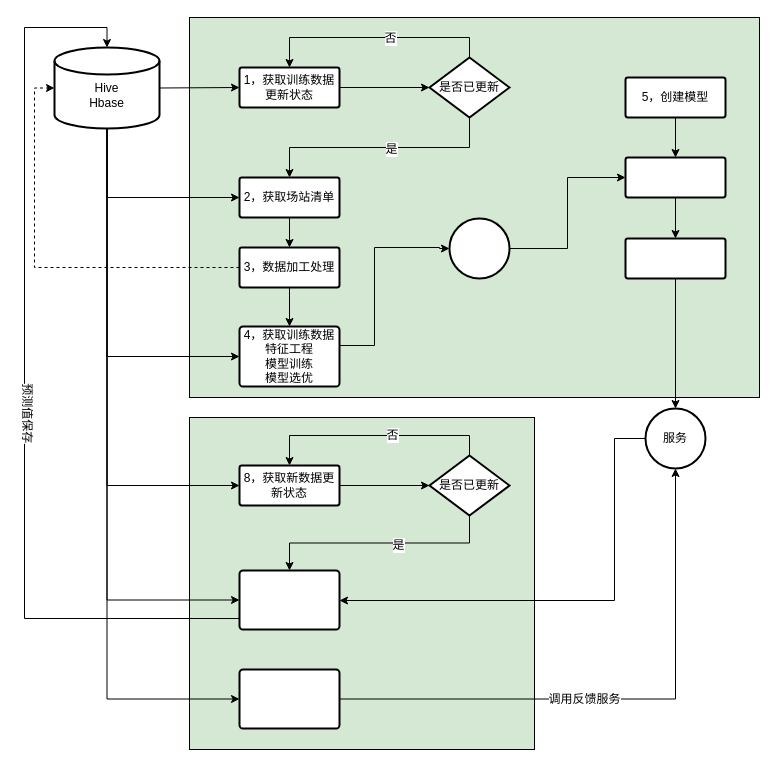
Some shapes in this 777 by 767 pixel diagram are drawn without their labels. Here are the shapes that lost their labels. From the top down, the centre of each, then its label:
At point 675,177: "6，模型版本上架".
At point 479,248: "模型".
At point 675,258: "7，模型部署上线".
At point 289,599: "9， 获取新数据 加工处理 预测功率".
At point 289,698: "10， 获取真实值 获取预测值".
